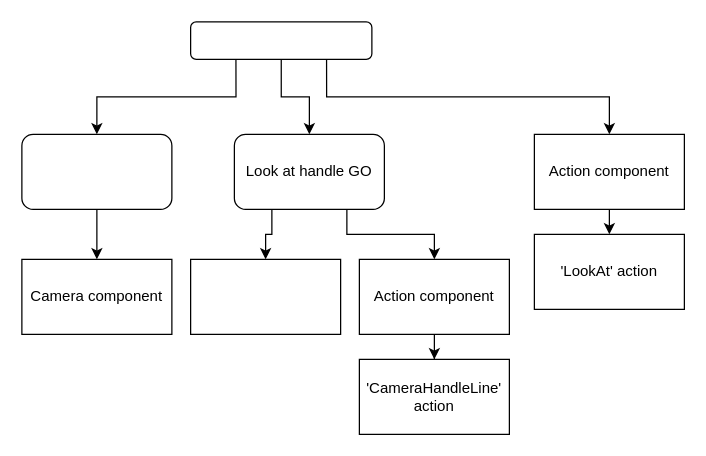
Image size: 706x456. Some labels were removed from this diagram. The shapes that lost their labels are listed below. From the top down, each one's centre as x and y in pixels, then its label:
At point (280, 40): "Camera composite GO".
At point (96, 171): "Camera handle GO".
At point (265, 296): "Handle component".
